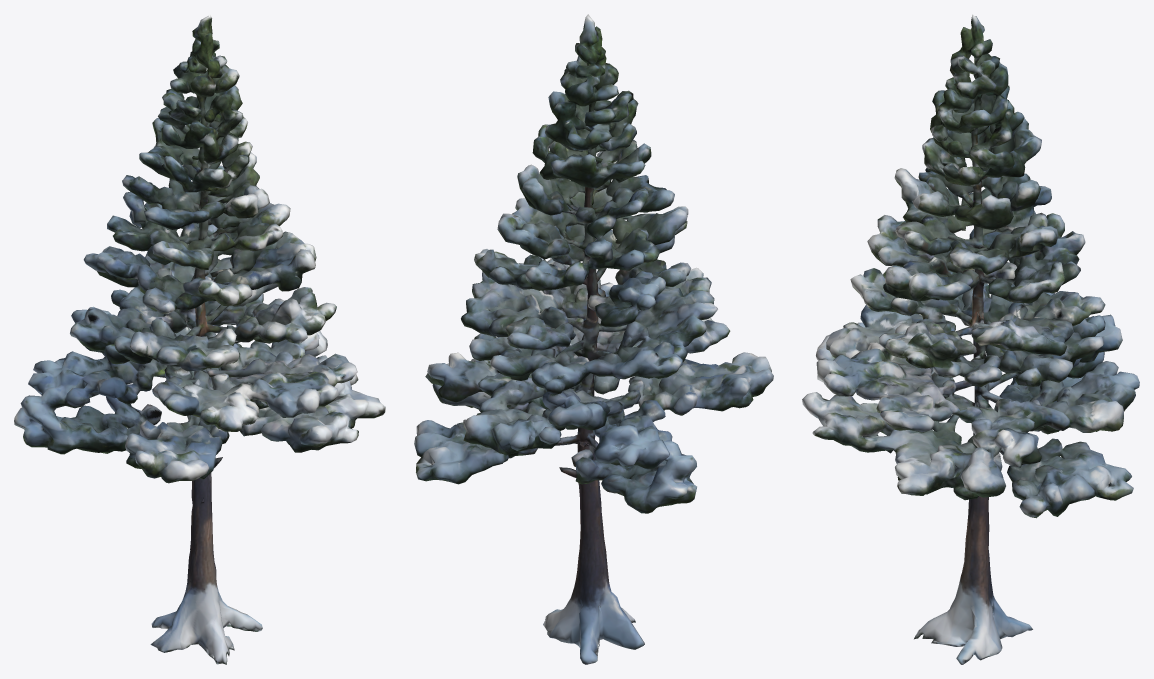
The model's file is AI_SnowSpruceTree.fbx.
3 renders of one model, left to right at view 1: azimuth 30°, elevation 25°; view 2: azimuth 150°, elevation 25°; view 3: azimuth 270°, elevation 25°, orthographic.
Parts seen in each view (by area): view 1: Mesh_0; view 2: Mesh_0; view 3: Mesh_0.
Boxes of the visible parts, x1=… form: Mesh_0: x1=14, y1=14, x2=385, y2=664; Mesh_0: x1=414, y1=14, x2=773, y2=664; Mesh_0: x1=802, y1=14, x2=1139, y2=664.
Size of the model in its own units: 100 by 203 by 98.51.
1 material, 1 textured.
